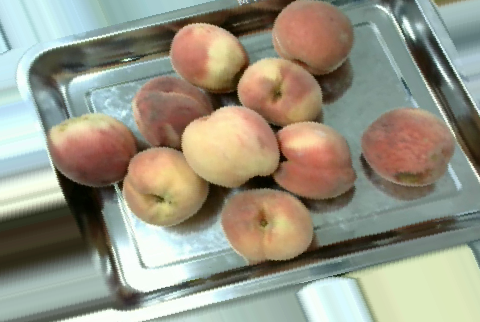Peach: (358, 106, 460, 188), (183, 106, 278, 188), (270, 120, 357, 203), (122, 145, 208, 227), (220, 188, 314, 261), (237, 57, 327, 129), (47, 113, 134, 187), (269, 1, 357, 73), (130, 76, 216, 147), (166, 23, 250, 92)
